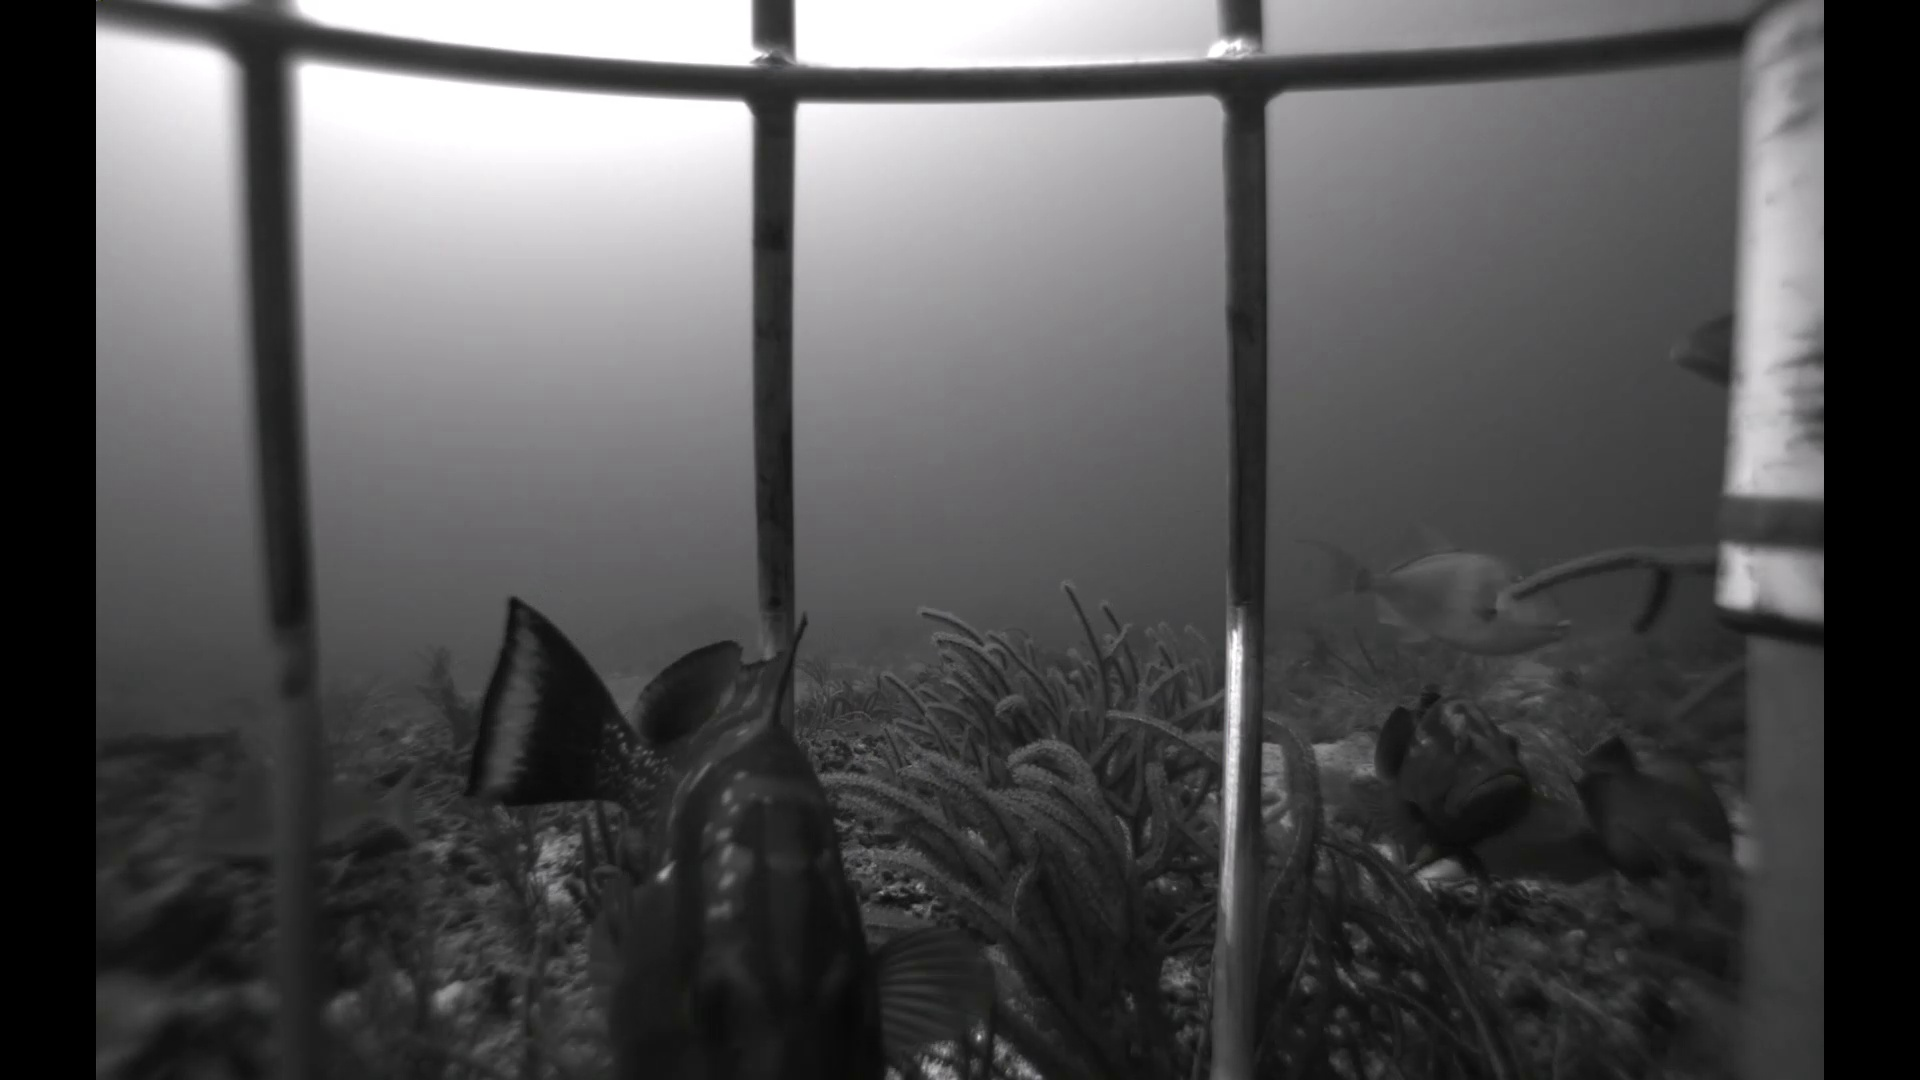BALISTESCAPRISCUS-189030502: (1273, 492, 1582, 669)
CALAMUSNODOSUS-170210608: (178, 752, 436, 872)
EPINEPHELUSMORIO-170021211: (456, 564, 1029, 1077), (1327, 678, 1547, 887), (1655, 298, 1745, 396)
LACHNOLAIMUSMAXIMUS-170281801: (1350, 787, 1607, 901)
POMACANTHUSARCUATUS-170290201: (1553, 720, 1755, 913)
